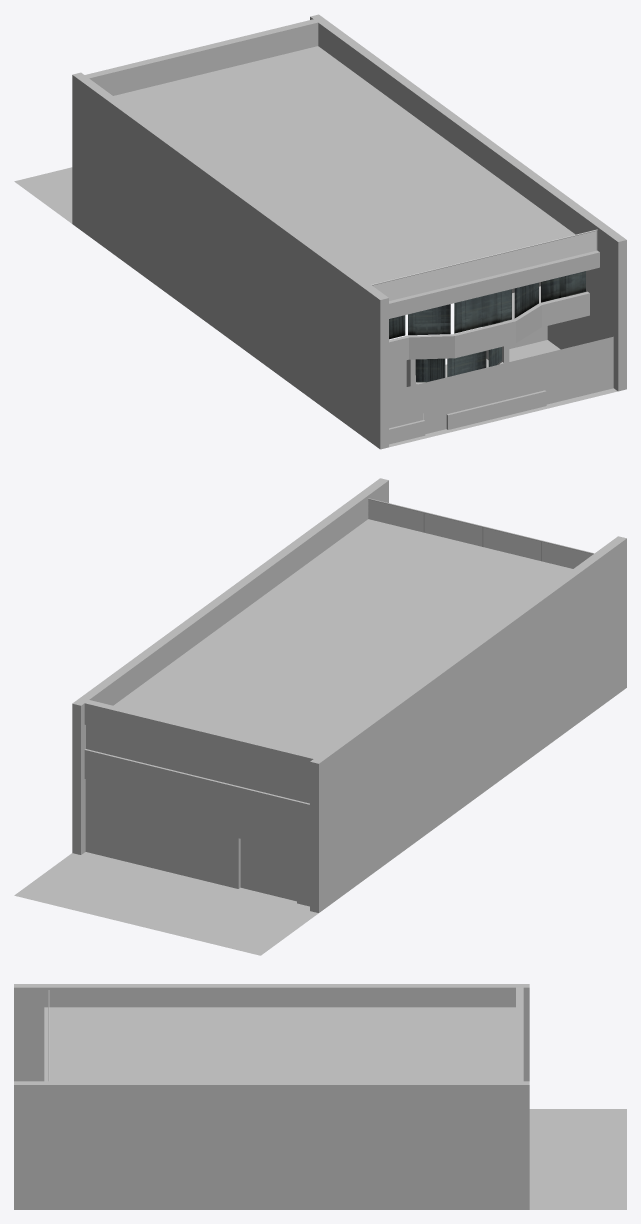
The picture shows the model from 3 angles, top to bottom: view 1: azimuth 30°, elevation 25°; view 2: azimuth 150°, elevation 25°; view 3: azimuth 270°, elevation 25°; orthographic projection. The views are drawn at different scales.
Parts seen in each view (by area): view 1: BB-047; view 2: BB-047; view 3: BB-047.
Part boxes in pixels (bbox=[...]): BB-047: bbox=[14, 14, 626, 449]; BB-047: bbox=[14, 478, 626, 955]; BB-047: bbox=[14, 984, 626, 1209].
Size of what is drawn, in the model's own units: 14 by 8.1 by 36.
